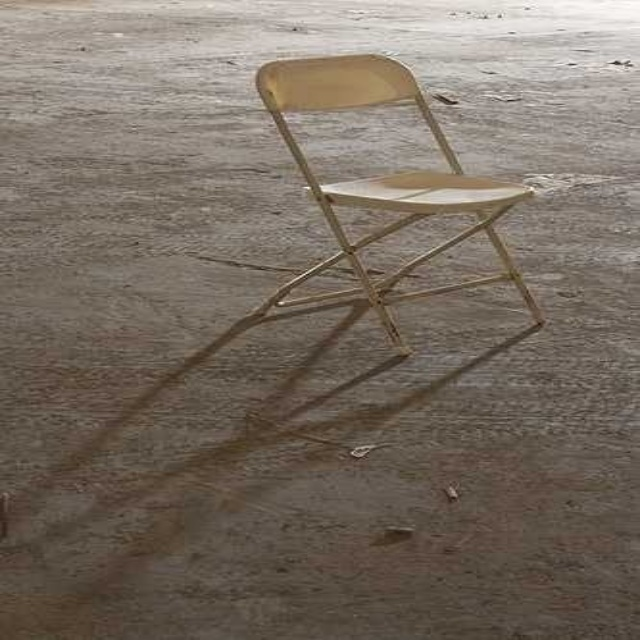obstacle: (250, 54, 544, 355)
